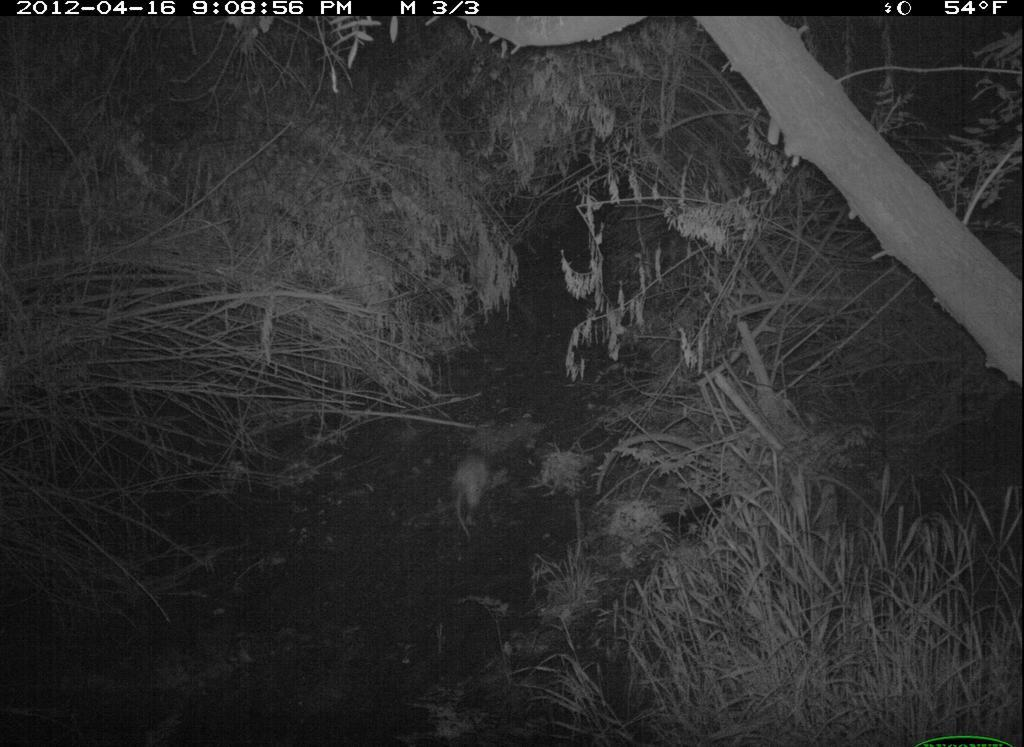opossum: (434, 433, 498, 546)
